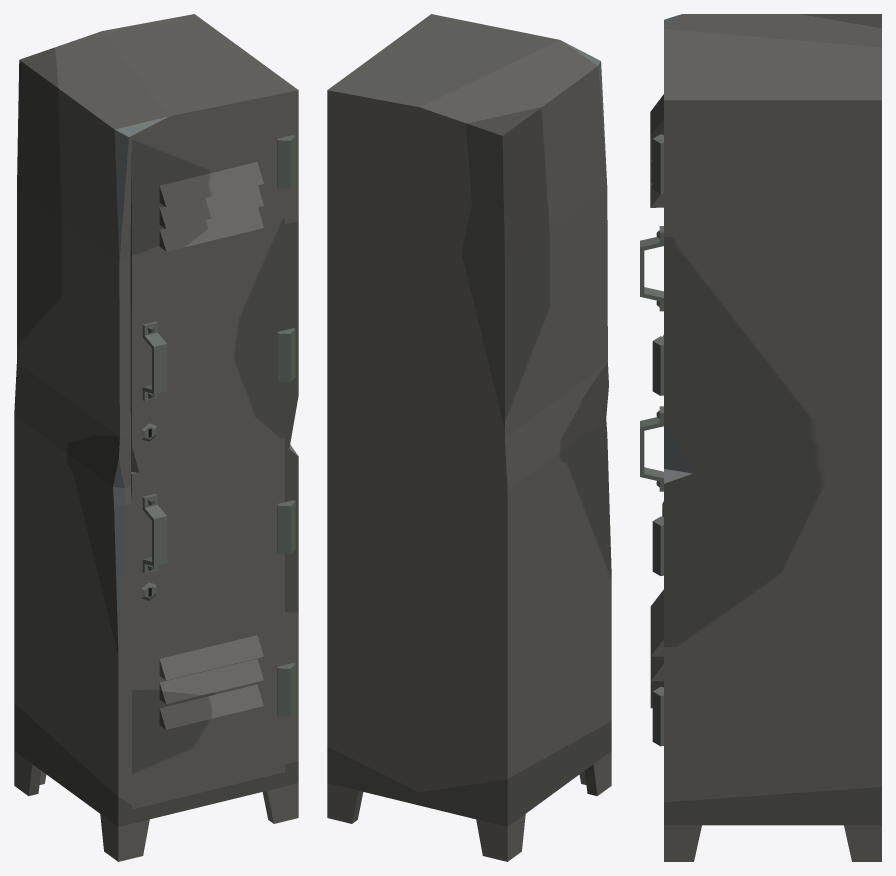
The model's file is SM_Locker_Gray.fbx.
The picture shows the model from 3 angles, left to right: view 1: azimuth 30°, elevation 25°; view 2: azimuth 150°, elevation 25°; view 3: azimuth 270°, elevation 25°; orthographic projection. The views are drawn at different scales.
Visible parts, largest first — view 1: SM_Locker_Gray, SM_Locker_Door_Up_Gray, SM_Locker_Door_Bot_Gray; view 2: SM_Locker_Gray; view 3: SM_Locker_Gray, SM_Locker_Door_Bot_Gray, SM_Locker_Door_Up_Gray.
Part boxes in pixels (box(x1,y1,x2,y2)): SM_Locker_Gray: box(14, 14, 298, 861); SM_Locker_Door_Up_Gray: box(130, 102, 295, 472); SM_Locker_Door_Bot_Gray: box(131, 437, 295, 809); SM_Locker_Gray: box(327, 14, 611, 861); SM_Locker_Gray: box(664, 14, 881, 861); SM_Locker_Door_Bot_Gray: box(640, 406, 663, 746); SM_Locker_Door_Up_Gray: box(640, 94, 663, 395).
Size of the model in its own units: 54.05 by 210 by 60.01.
